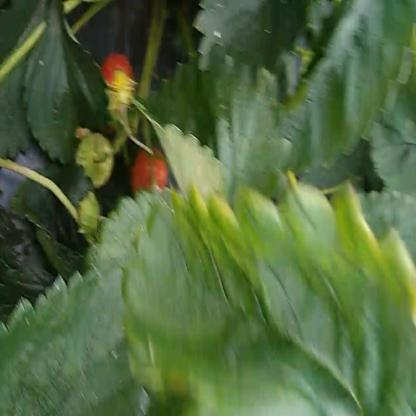ripe: (130, 146, 170, 194), (99, 51, 135, 100)
